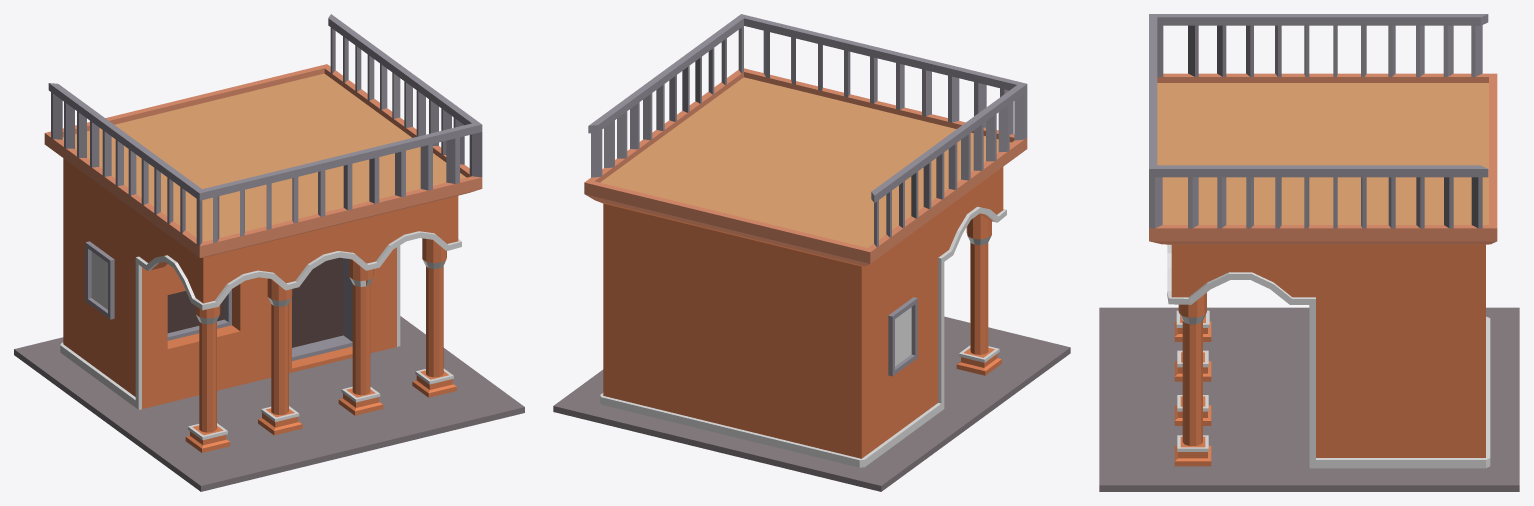
The model's file is building_1x1_4.glb.
3 views of the same model, side by side, from view 1: azimuth 30°, elevation 25°; view 2: azimuth 150°, elevation 25°; view 3: azimuth 270°, elevation 25° (orthographic). The views are drawn at different scales.
Parts seen in each view (by area): view 1: Building; view 2: Building; view 3: Building.
Part boxes in pixels (<box>): Building: <box>14,14,524,491</box>; Building: <box>553,14,1070,491</box>; Building: <box>1099,14,1519,491</box>.
Size of the model in its own units: 2 by 1.64 by 2.
